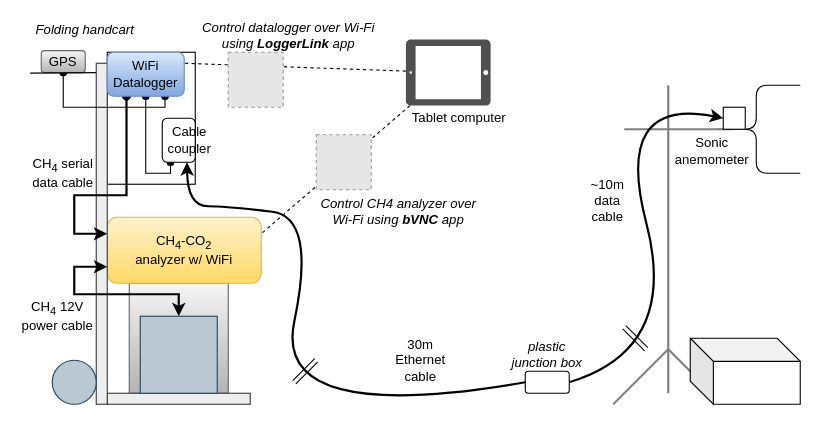
Image size: 820x425. Some labels were removed from this diagram. Grey dashed boxes stand in for pictures. The centre of each missing label's shape, as x and y in pixels:
CH4 release h/w: [744,370]
Fused 12V Deep-cycle Battery: [178,354]
